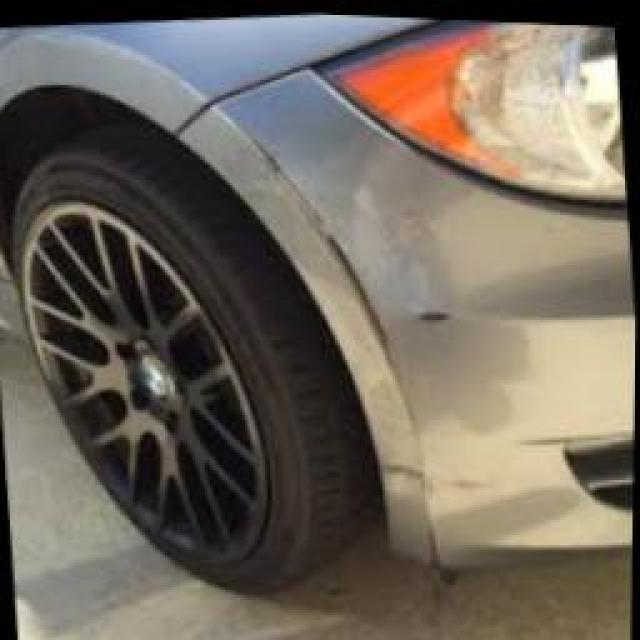Bumper: (175, 62, 519, 555)
